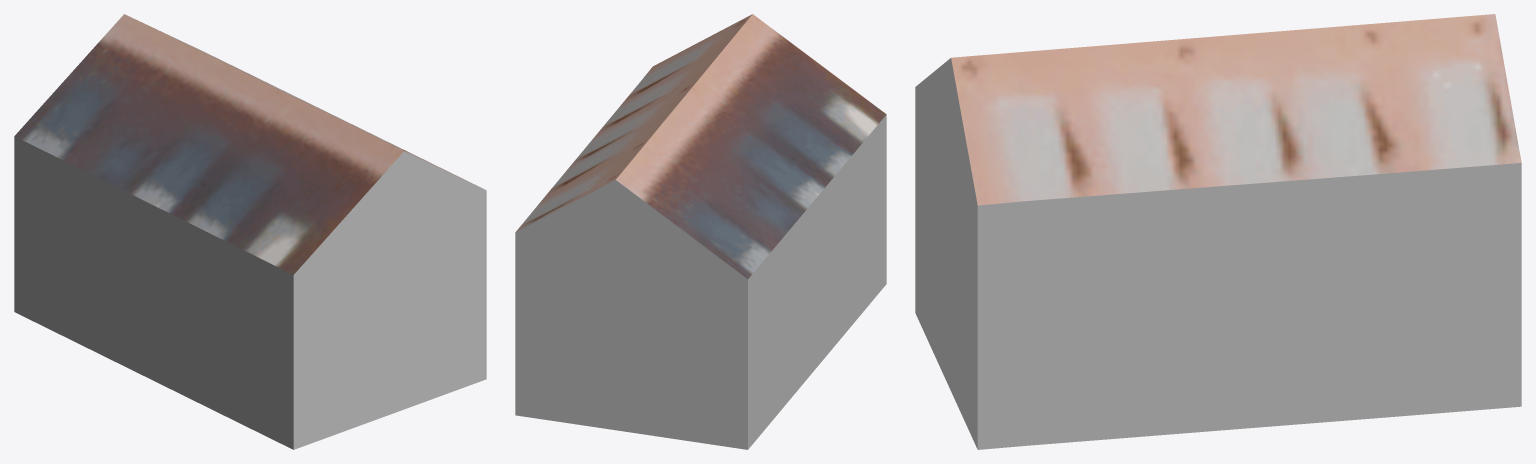
The model's file is DEBW_0010007Tvlz.gltf.
3 renders of one model, left to right at view 1: azimuth 30°, elevation 25°; view 2: azimuth 150°, elevation 25°; view 3: azimuth 270°, elevation 25°, orthographic. The views are drawn at different scales.
Visible parts, largest first — view 1: Z_UP; view 2: Z_UP; view 3: Z_UP.
Part boxes in pixels (x1,y1,x2,y2): Z_UP: [14, 14, 486, 449]; Z_UP: [515, 14, 886, 449]; Z_UP: [915, 14, 1521, 449].
Bounding box in the file's own units: 16.37 × 14.17 × 23.32.
Materials: 2 (1 with a texture image).
